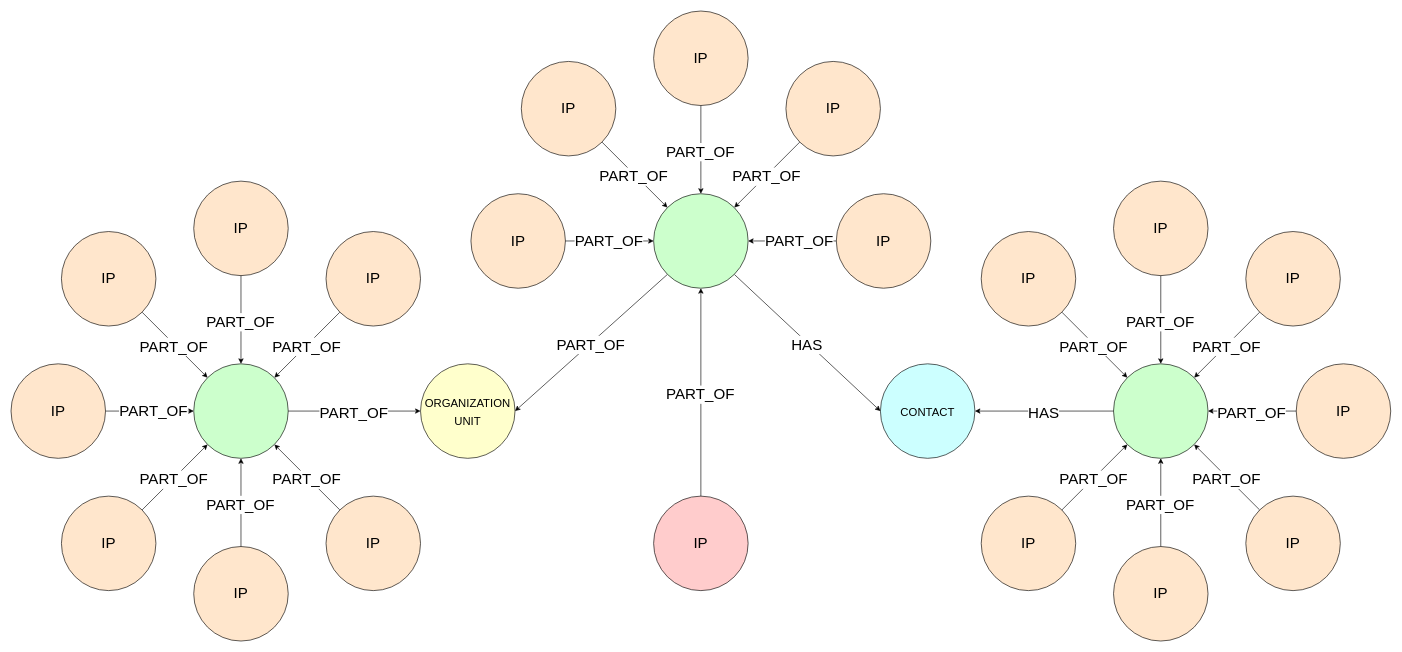
Some shapes in this 1402 by 652 pixel diagram are drawn without their labels. Each missing label, with the box of its shape:
SUBNET #1: (653, 193, 748, 288)
SUBNET #2: (193, 363, 288, 458)
SUBNET #3: (1113, 363, 1208, 458)
